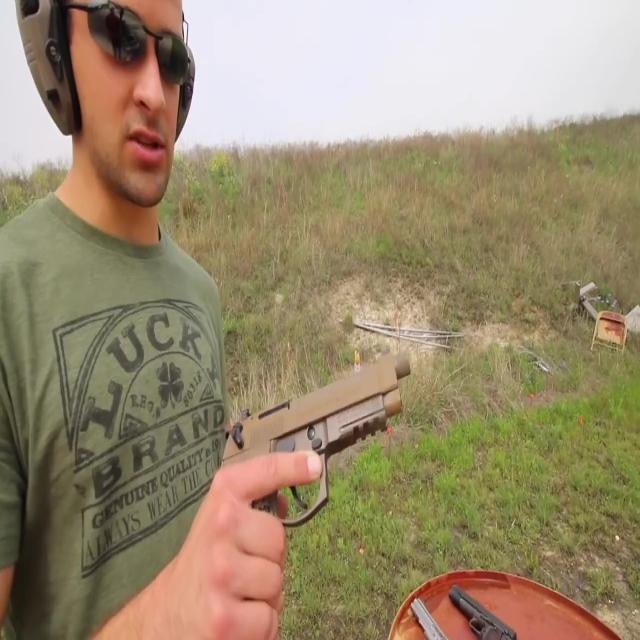Weapon: (198, 347, 530, 640)
